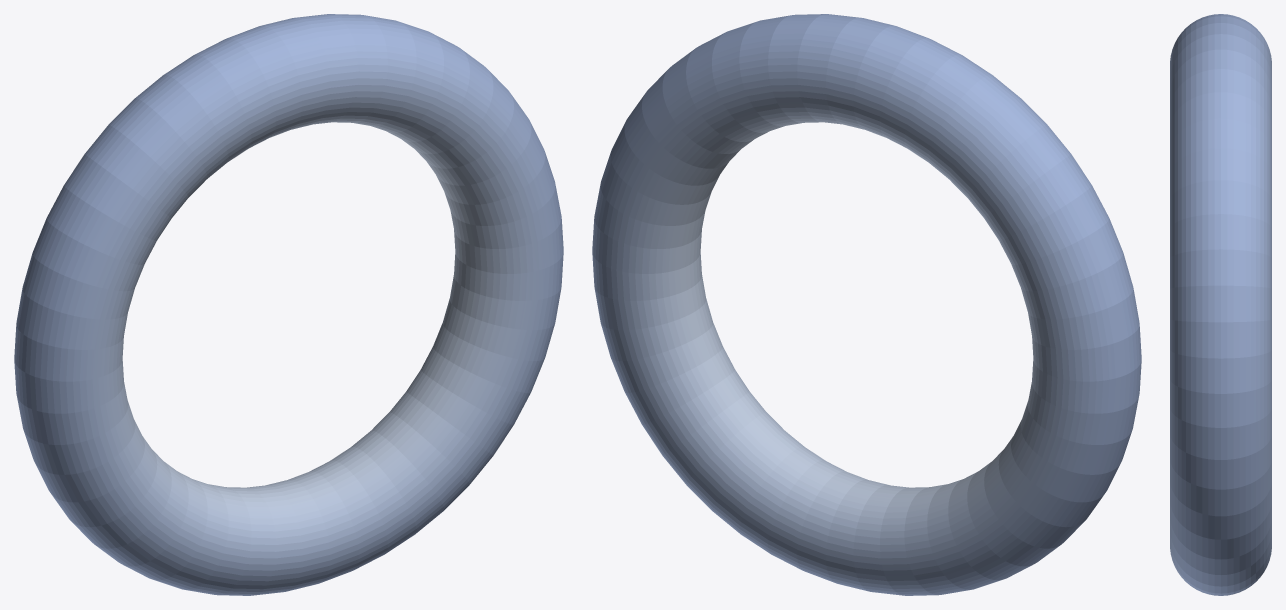
3 renders of one model, left to right at view 1: azimuth 30°, elevation 25°; view 2: azimuth 150°, elevation 25°; view 3: azimuth 270°, elevation 25°, orthographic. The views are drawn at different scales.
Visible parts, largest first — view 1: world; view 2: world; view 3: world.
Boxes of the visible parts, left/top/right/bottom form: world: left=14, top=14, right=563, bottom=595; world: left=592, top=14, right=1141, bottom=595; world: left=1170, top=14, right=1271, bottom=595.
Bounding box in the file's own units: 25.07 × 25.02 × 4.39.
